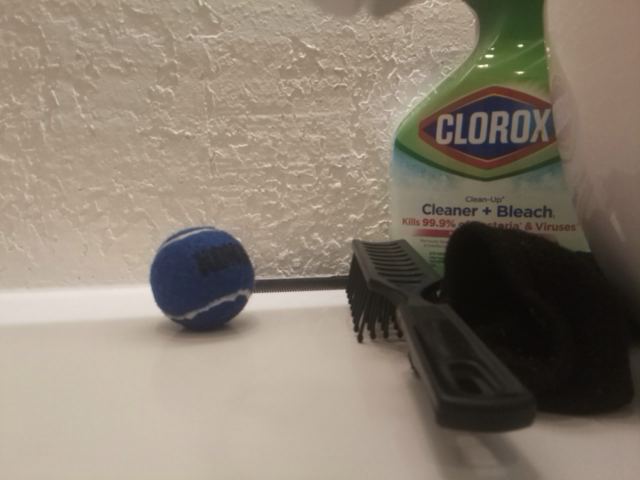blue-ball: (149, 224, 255, 333)
